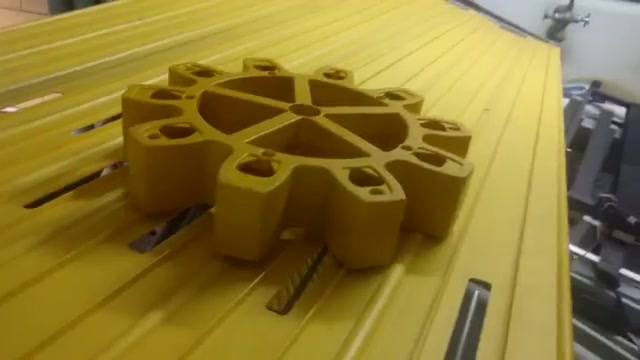gear: (109, 47, 470, 292)
